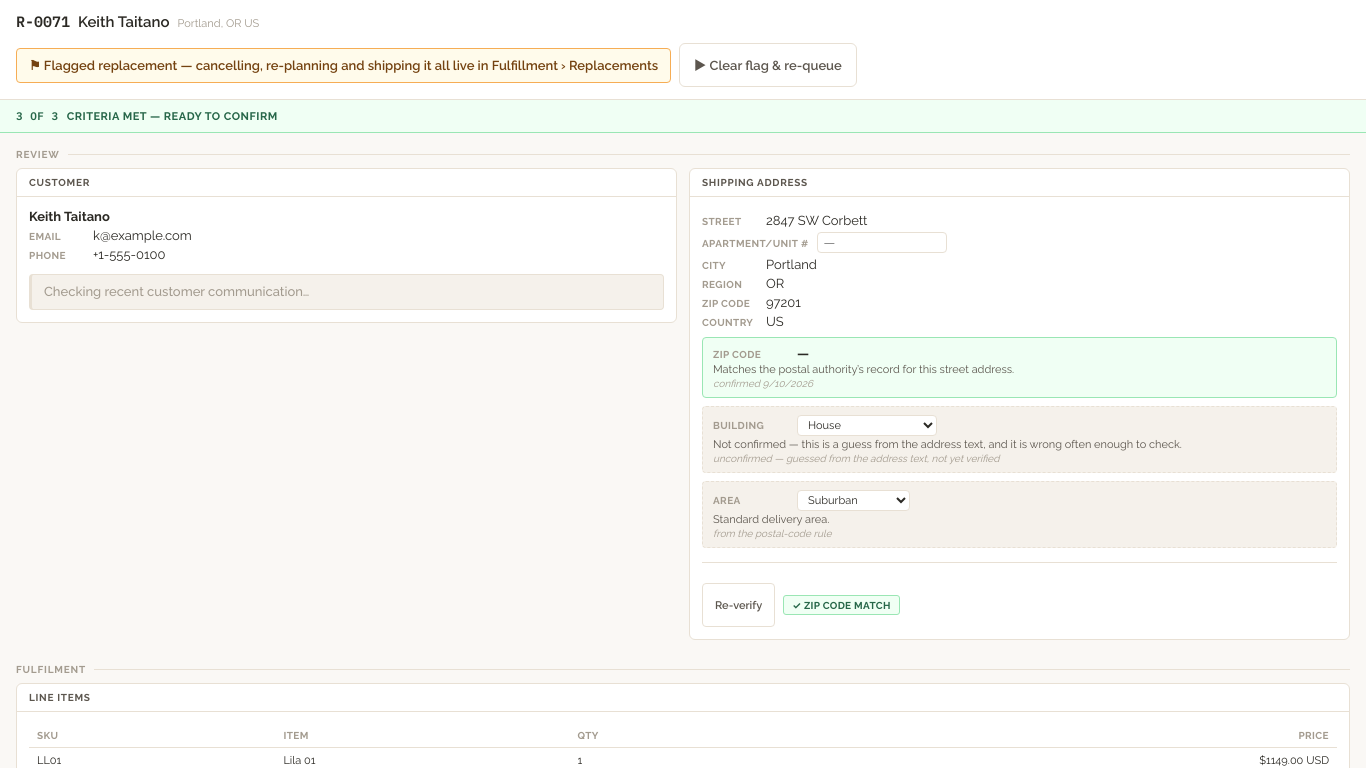
Detail — flagged replacement › goes back to the plain button when the override is discarded
Click the button "▶ Clear flag & re-queue".
click(768, 65)  # box [679,43,857,87]
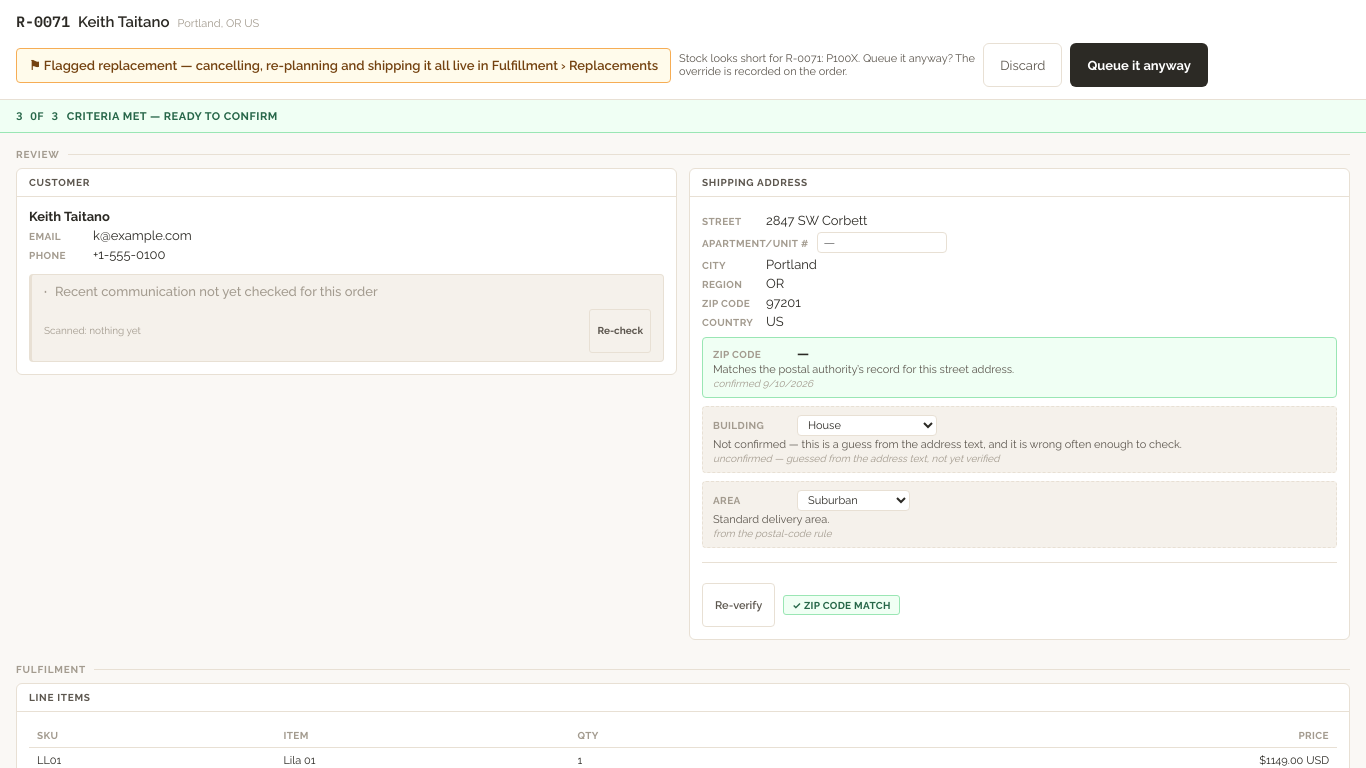
Now the button "Discard" is shown
Click the button "Discard".
click(1023, 65)  # box [983,43,1062,87]
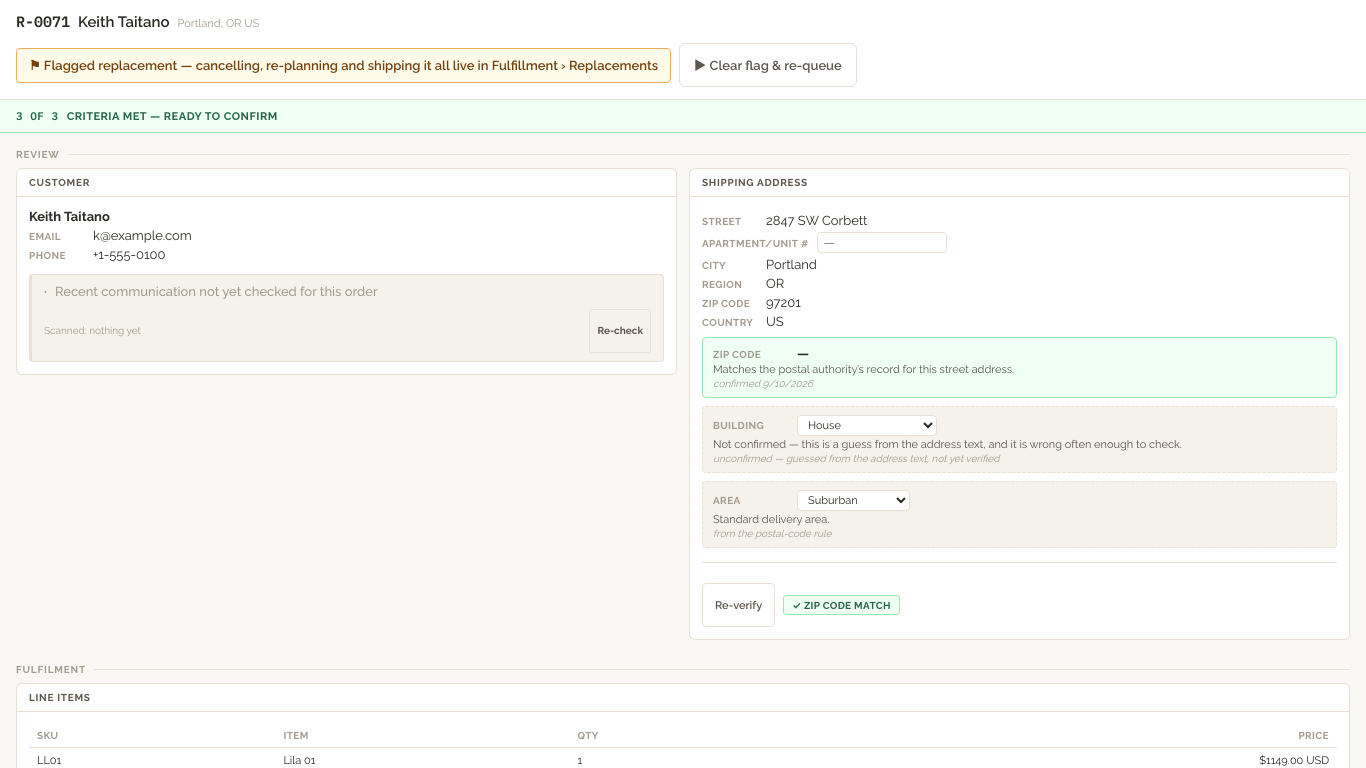
Now the button "▶ Clear flag & re-queue" is shown, box [679,43,857,87]
Now the text "Stock looks short" is gone
